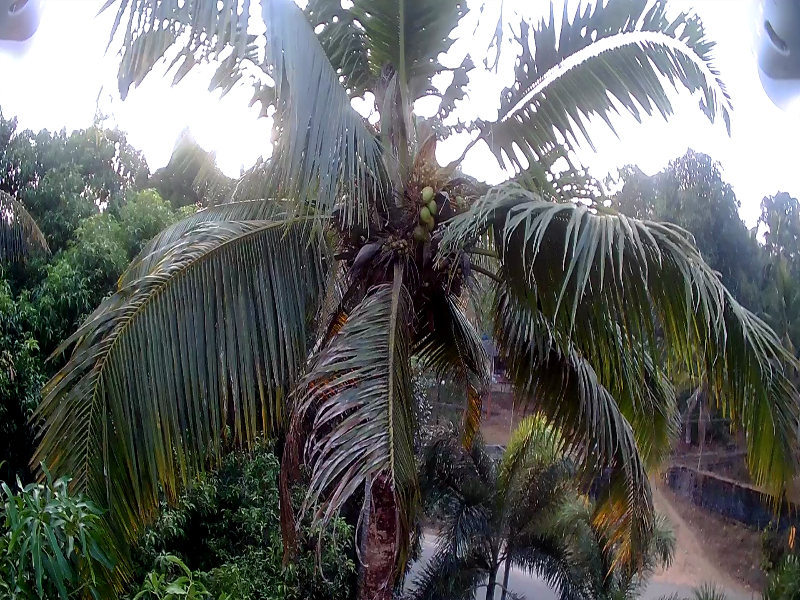coconut: (418, 207, 432, 225), (423, 198, 435, 217), (421, 188, 435, 198)
